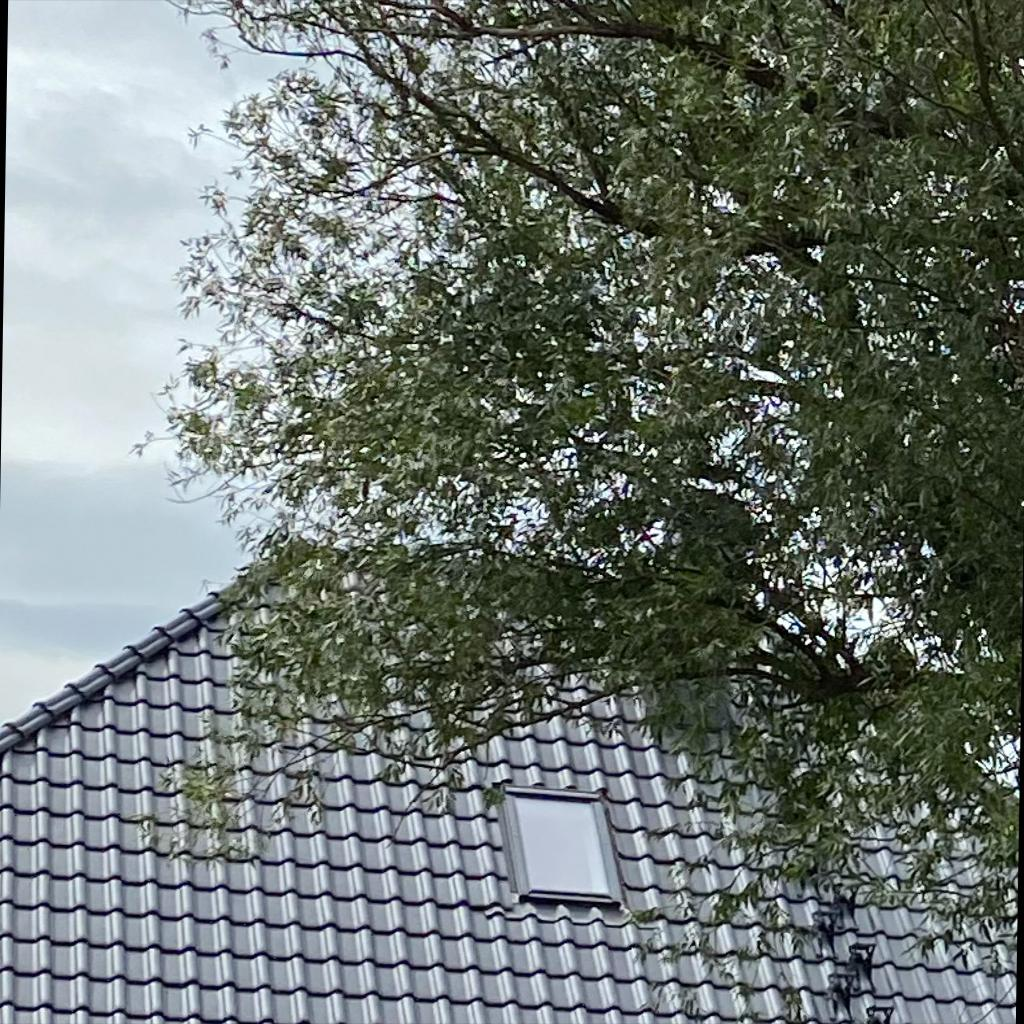tree: (127, 1, 1023, 1023)
